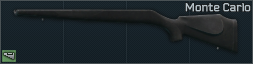Mosin ATI Monte Carlo stock: (0, 0, 253, 64)
